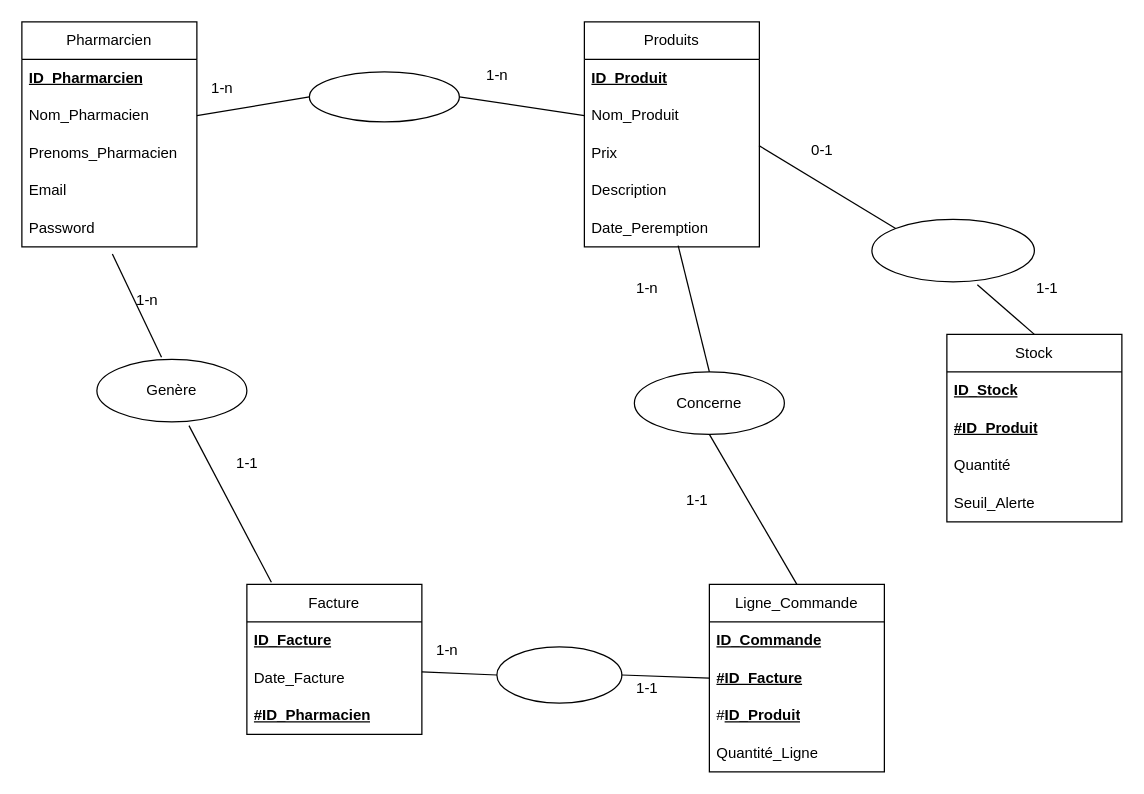
The diagram is 1144 pixels wide and 794 high, and some of its shapes have lost their labels. The shapes that lost their labels are listed below. From the top down, each one's centre as x and y in pixels, then its label:
[383,96]: Gère
[952,250]: Enregistré
[559,674]: Contient
